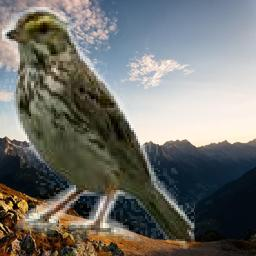Sparrow: (3, 7, 196, 249)
